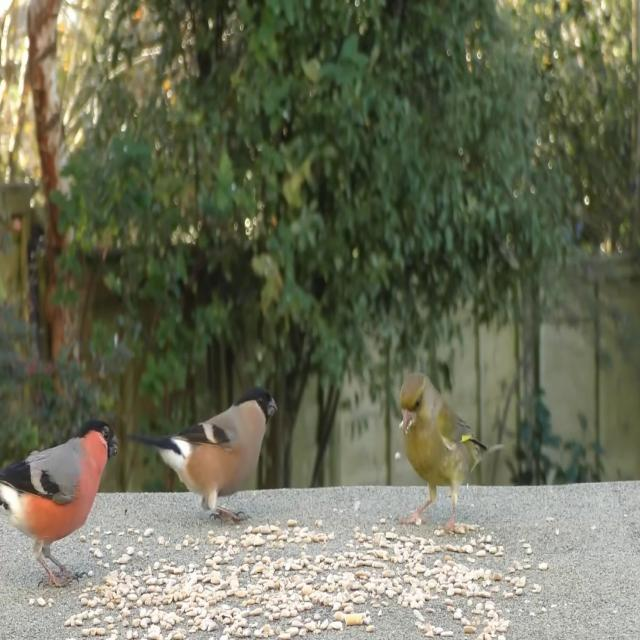beak: (398, 408, 415, 435), (268, 390, 279, 421), (109, 434, 119, 460)
bird: (0, 401, 119, 594), (133, 385, 279, 527), (398, 373, 508, 538)
